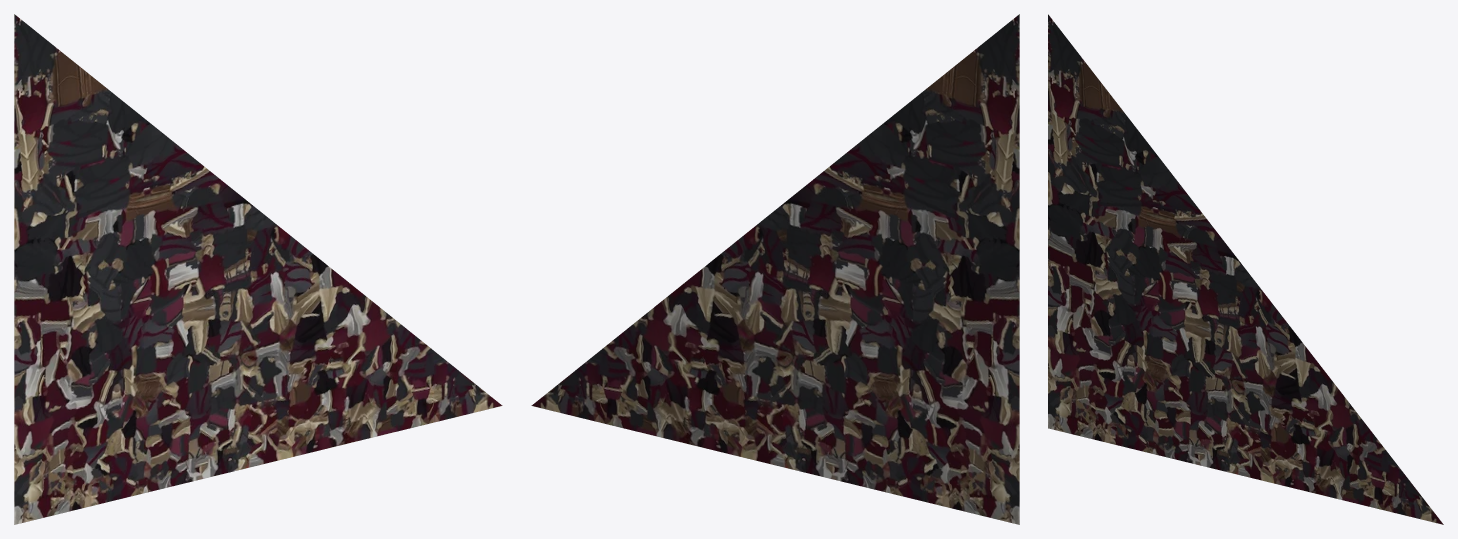
The model's file is shield-maps-lo.glb.
The picture shows the model from 3 angles, left to right: view 1: azimuth 30°, elevation 25°; view 2: azimuth 150°, elevation 25°; view 3: azimuth 330°, elevation 25°; orthographic projection. The views are drawn at different scales.
Visible parts, largest first — view 1: shield_crimson_1_maps; view 2: shield_crimson_1_maps; view 3: shield_crimson_1_maps.
Boxes of the visible parts, x1,y1,x2,y2 form: shield_crimson_1_maps: (14,14,502,524); shield_crimson_1_maps: (531,14,1019,524); shield_crimson_1_maps: (1048,14,1443,524).
Size of the model in its own units: 0.001 by 0.001 by 0.
Materials: 1 (1 with a texture image).
